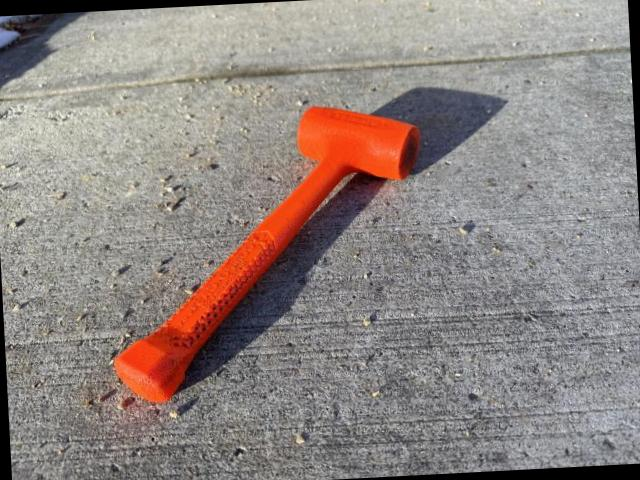hammer: (100, 98, 433, 404)
